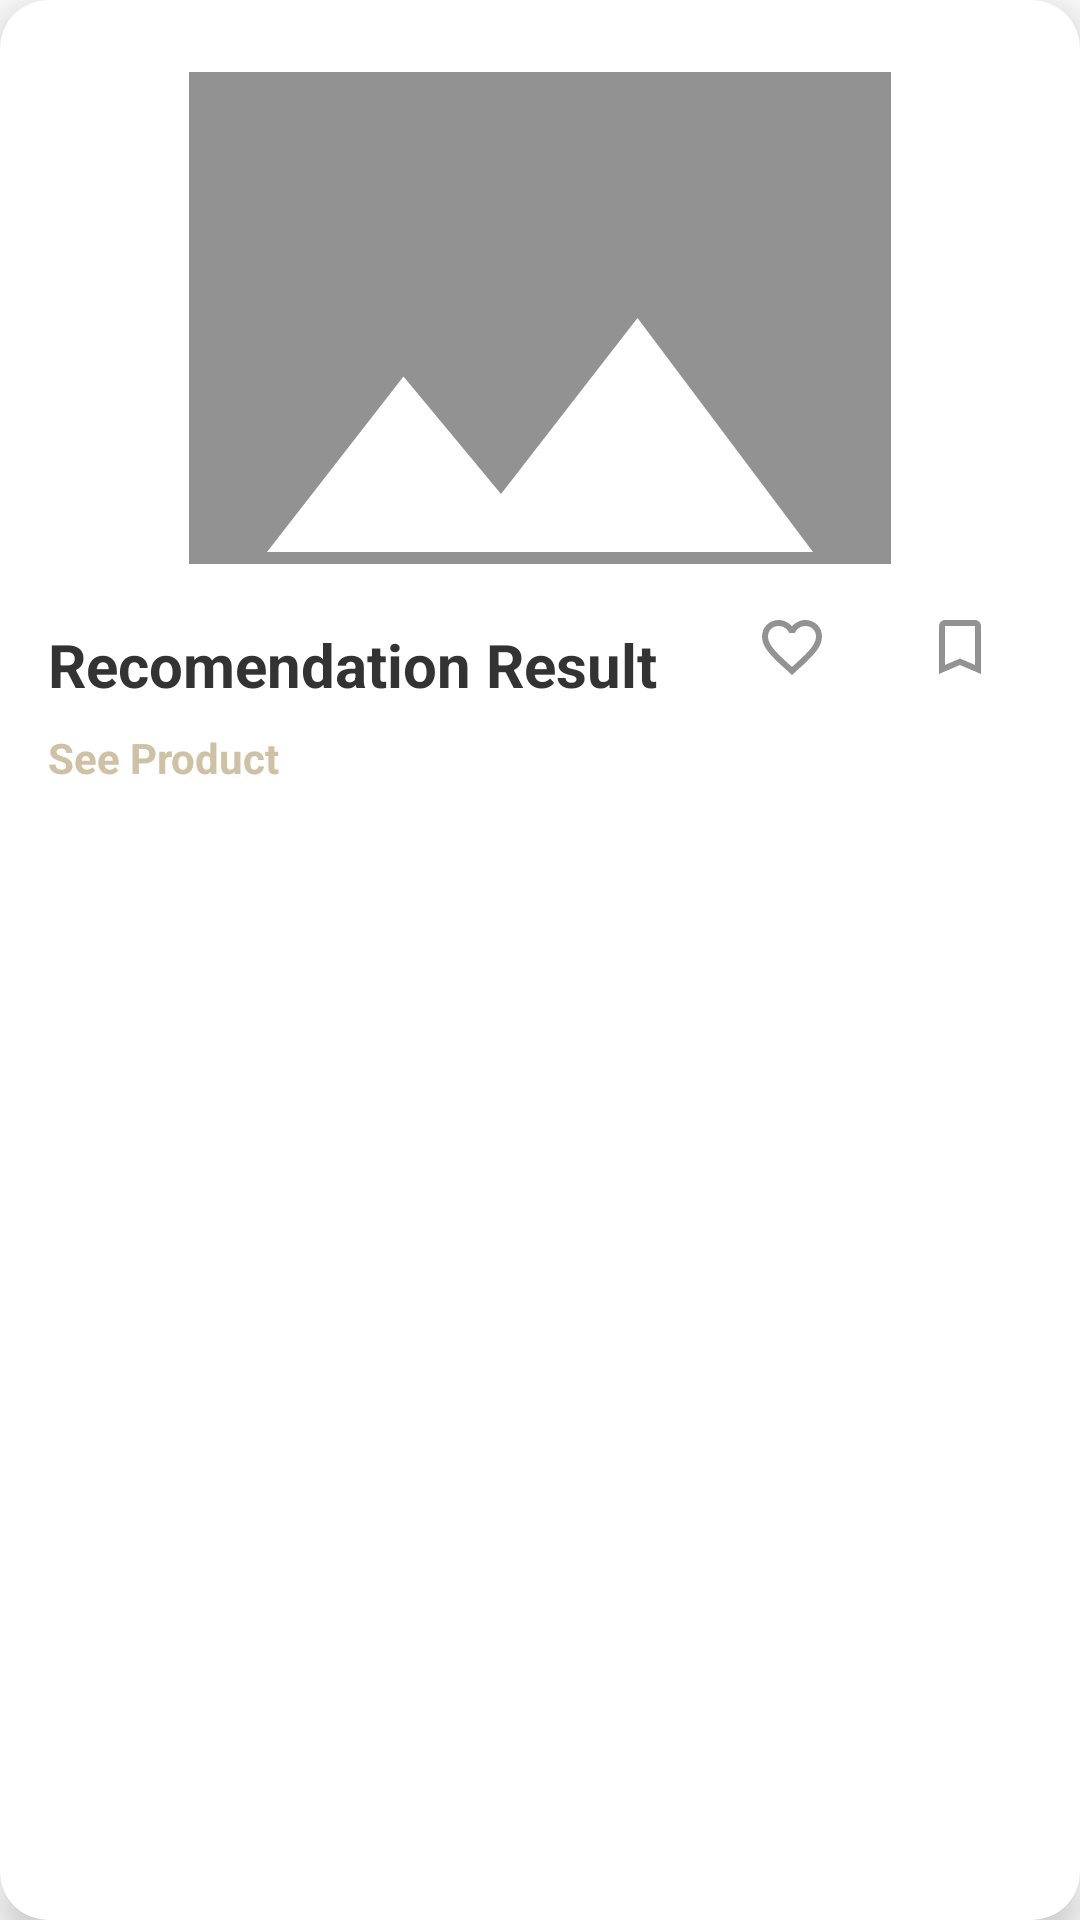

Point at icon controls on the screen. Image size 1080 x 1920, points as point (x, y).
Like: point (792, 647)
Save: point (960, 647)
